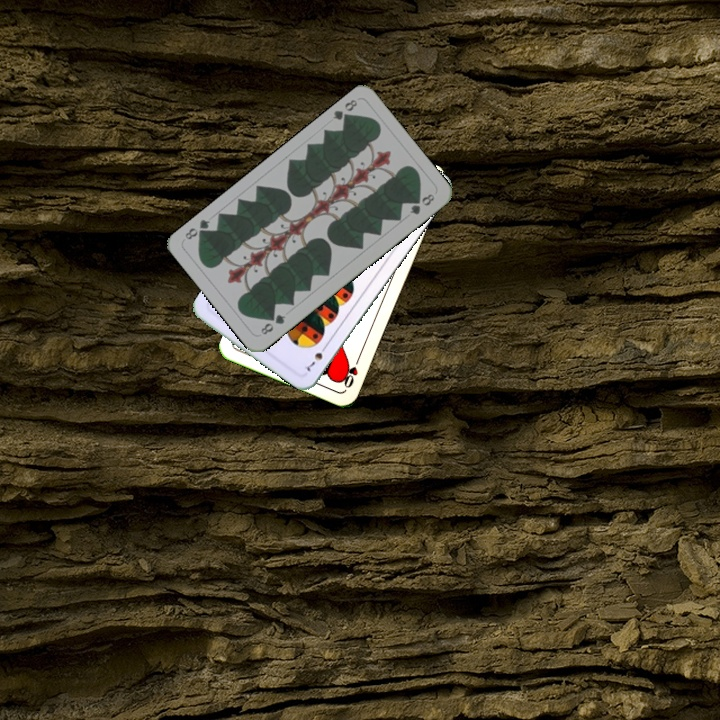G8: (328, 95, 360, 126), (256, 310, 288, 337)
HO: (337, 353, 363, 391)
S7: (300, 340, 330, 374)
